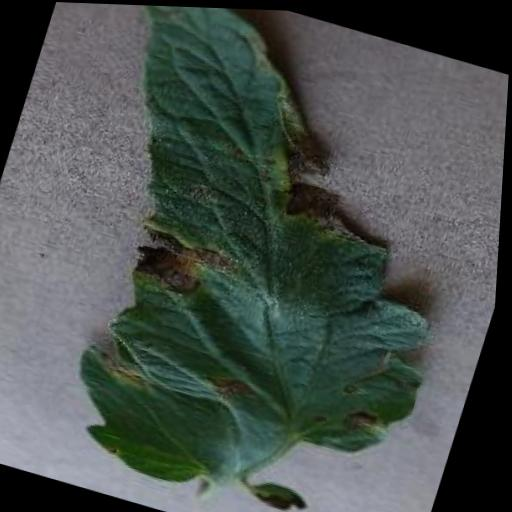Early Blight: (1, 1, 512, 512)
